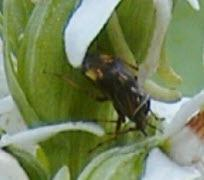plant_bugs: (74, 49, 176, 159)
